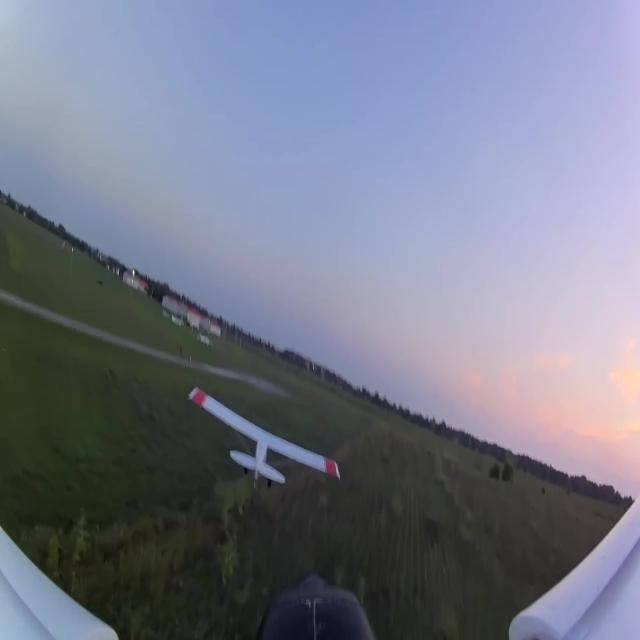iha: (180, 416, 336, 461)
